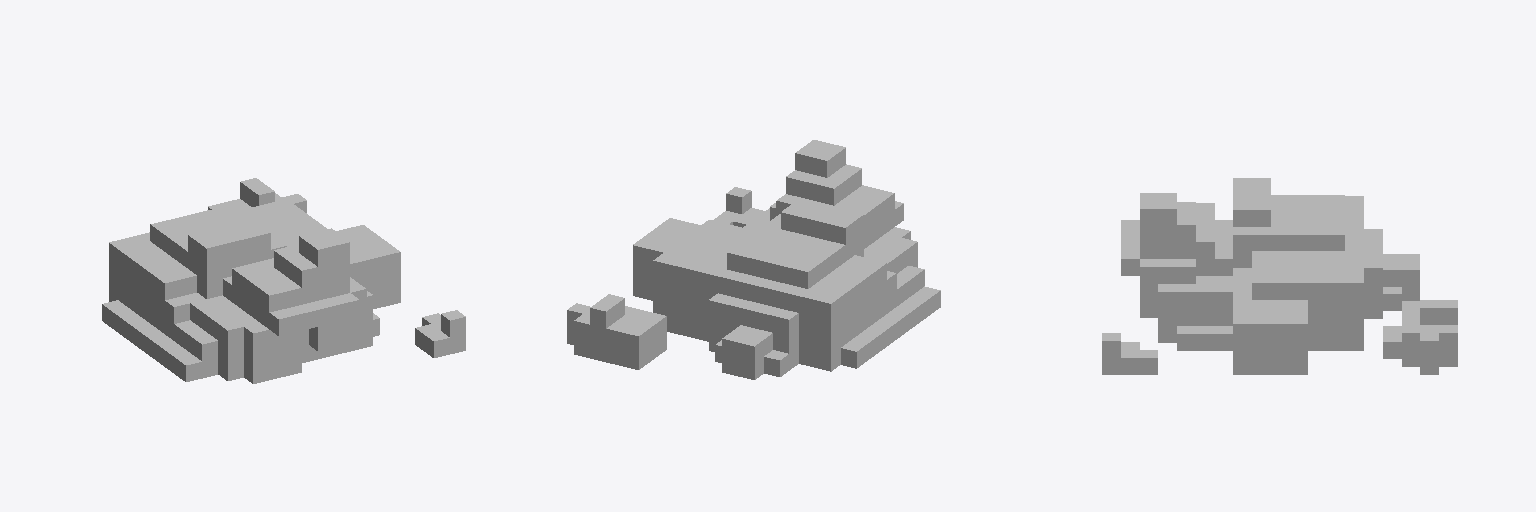
Rendered from Rocks.obj.
The picture shows the model from 3 angles: view 1: azimuth 30°, elevation 25°; view 2: azimuth 150°, elevation 25°; view 3: azimuth 270°, elevation 25°; orthographic projection.
Bounding box in the file's own units: 15 × 7 × 19.